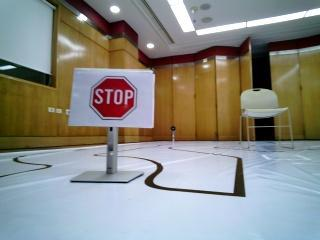stop: (76, 71, 147, 128)
